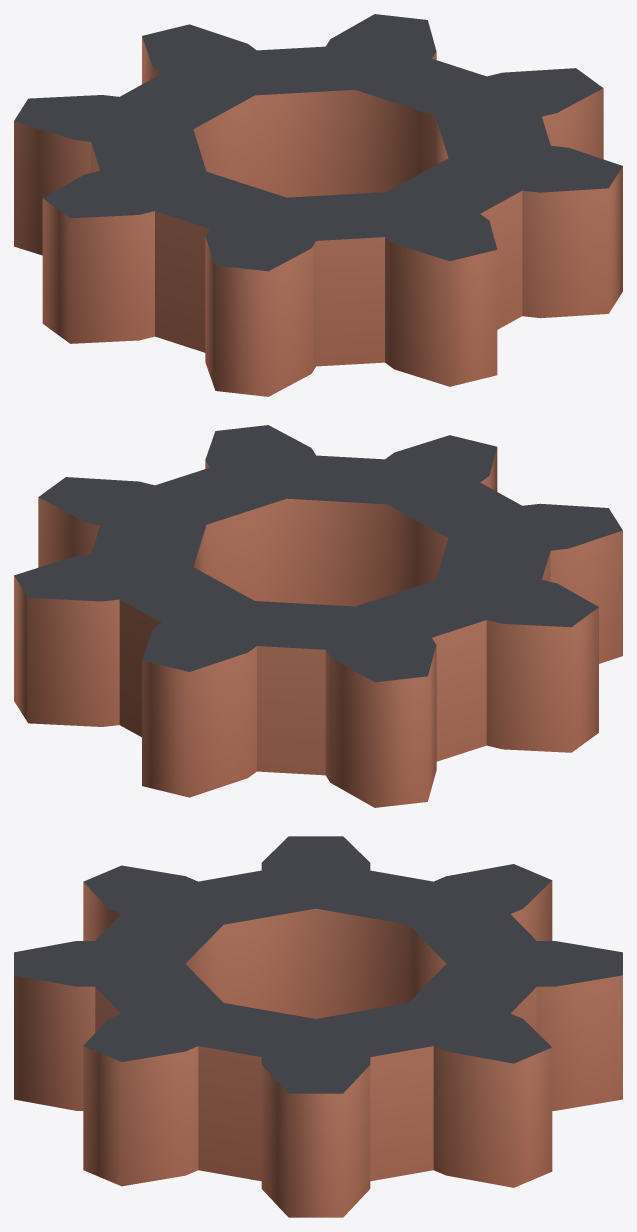
File: cog-e.obj
The picture shows the model from 3 angles, top to bottom: view 1: azimuth 30°, elevation 25°; view 2: azimuth 150°, elevation 25°; view 3: azimuth 270°, elevation 25°; orthographic projection.
Visible parts, largest first — view 1: cog-e; view 2: cog-e; view 3: cog-e.
Part boxes in pixels (x1,y1,x2,y2): cog-e: [14, 14, 622, 396]; cog-e: [14, 425, 622, 807]; cog-e: [14, 836, 622, 1217].
Bounding box in the file's own units: 1 × 0.225 × 1.
